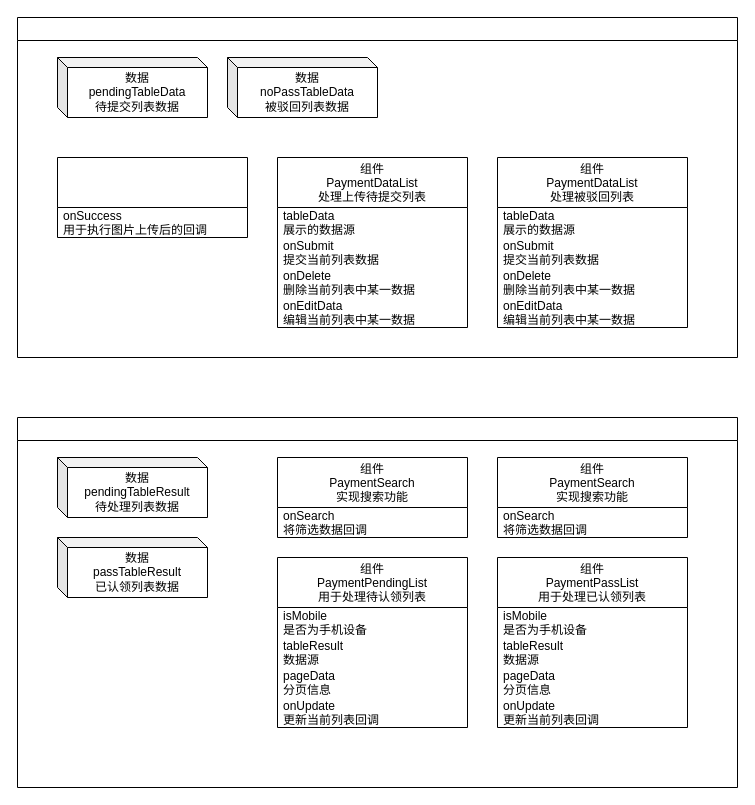
This 755x805 diagram has some shape labels left out. The box of each missing label's shape, as (x1, y1, x2, y2) in pixels:
paymentclaim（收款认领页面）: (16, 416, 738, 788)
paymentupload（收款图片上传页面）: (16, 16, 738, 358)
组件 ImageUpload 实现图片上传: (56, 156, 248, 238)
